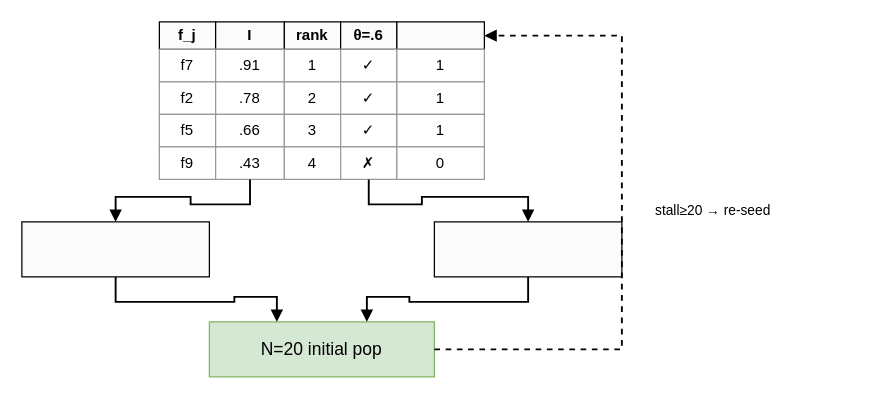
Image size: 875x399. Some labels were removed from this diagram. Each missing label, with the centre of its shape:
50% MI seed: (115,249)
50% rand seed: (527,249)
seed: (440,35)
